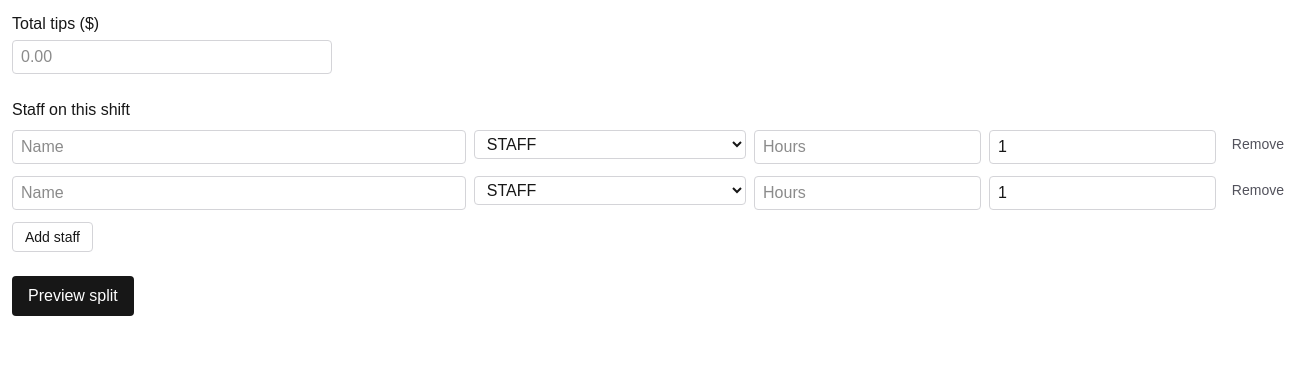
Test: ShiftPreviewForm › shows field-level errors next to invalid inputs
The image size is (1304, 385).
Type "100.00" into the field labelled "Total tips ($)" at point(172, 57), box [12,40,332,74]
Type "Ana" into the field named "Staff 1 name" at point(239, 147), box [12,130,466,164]
Type "6" into the field named "Staff 1 hours" at point(868, 147), box [754,130,981,164]
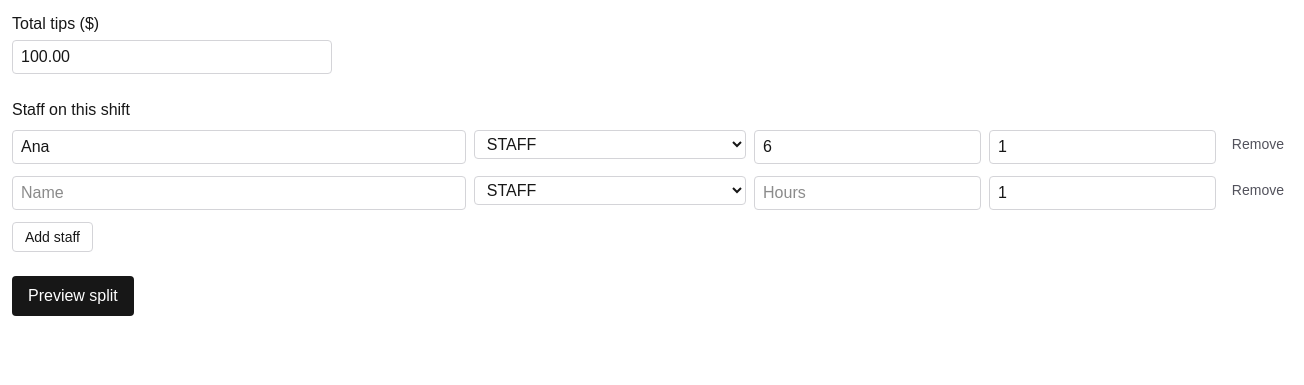
Type "Ben" into the field named "Staff 2 name" at point(239, 193), box [12,176,466,210]
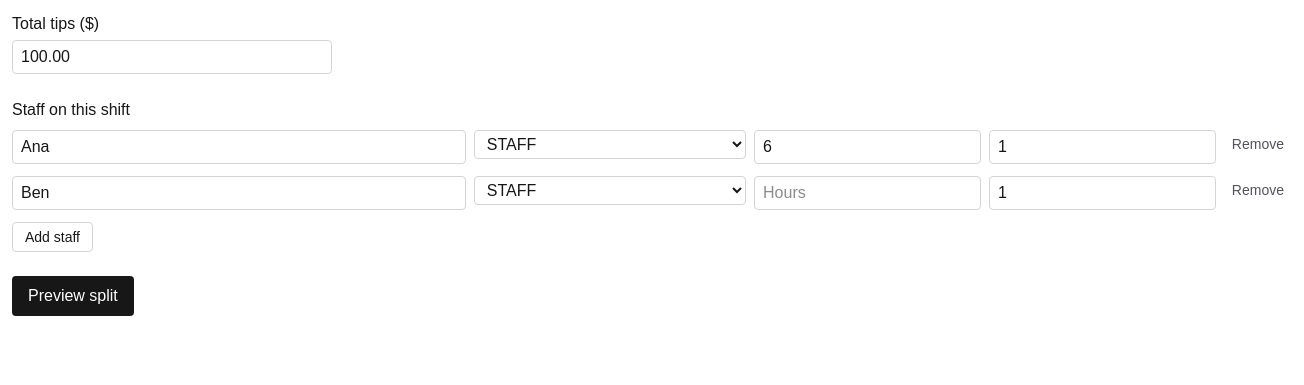
Type "4" into the field named "Staff 2 hours" at point(868, 193), box [754,176,981,210]
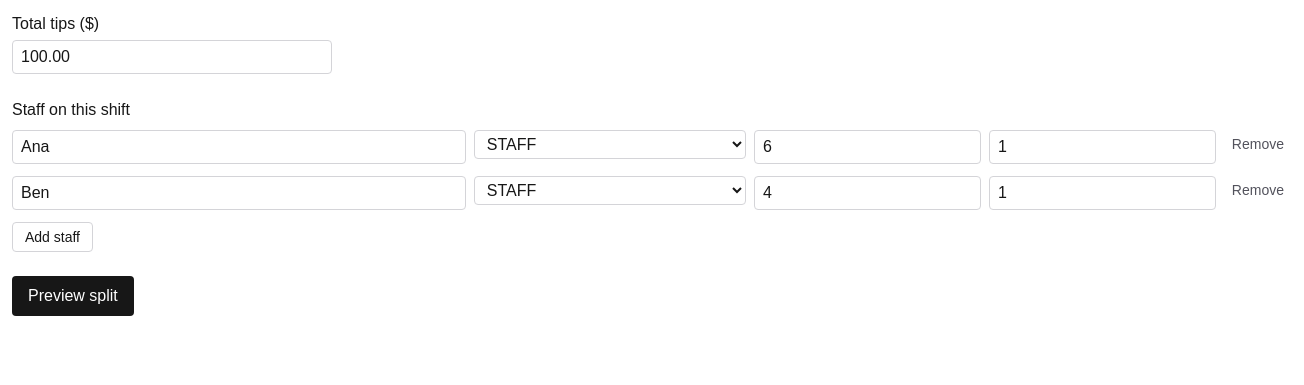
Replace the text in the field labelled "Total tips ($)" with "abc" at point(172, 57), box [12,40,332,74]
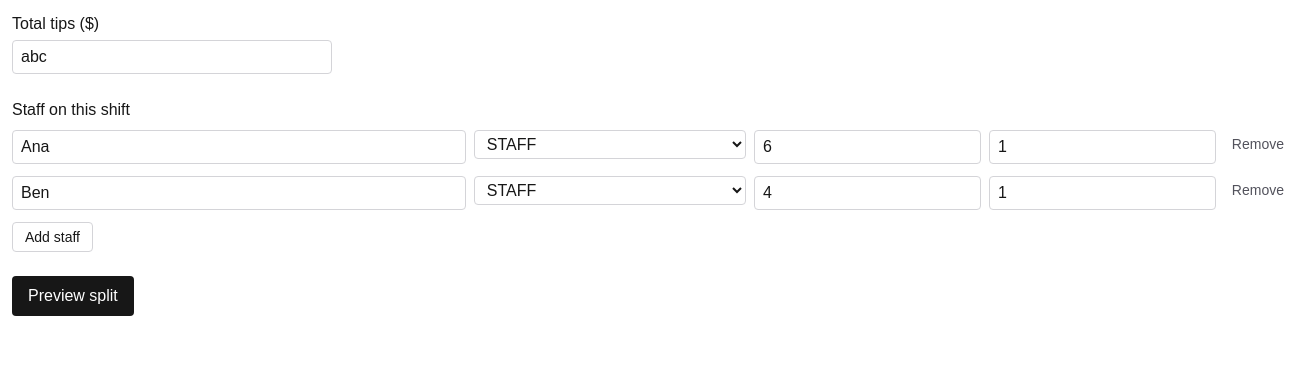
Clear the field named "Staff 2 hours" at point(868, 193), box [754,176,981,210]
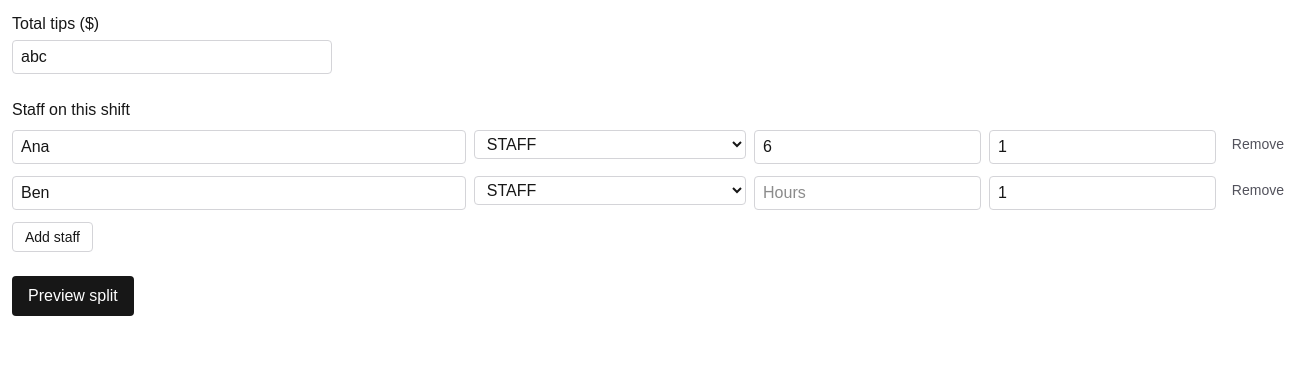
Click the button "Preview split" at point(73, 296), box [12,276,134,316]
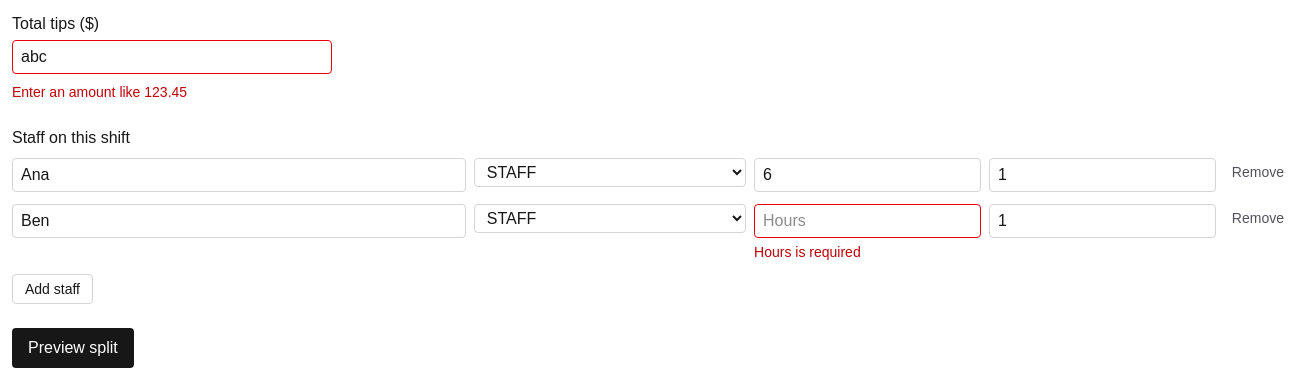
Check: the text "Hours is required" is shown, box [754,244,861,260]
